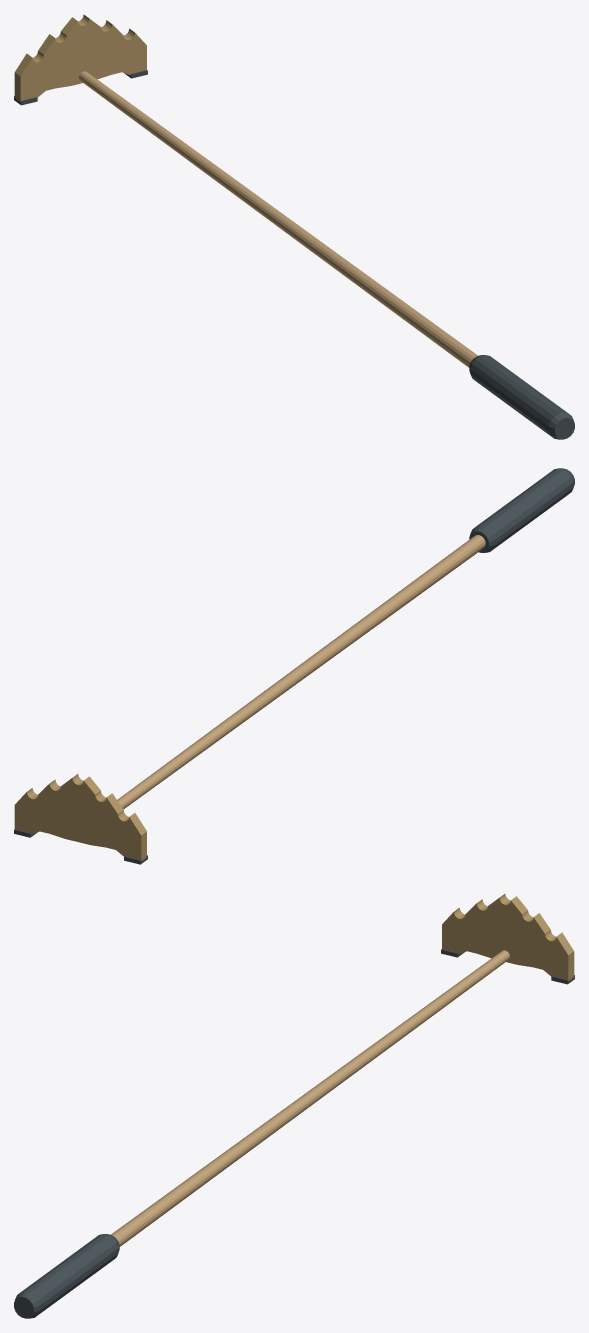
3 renders of one model, top to bottom at view 1: azimuth 30°, elevation 25°; view 2: azimuth 150°, elevation 25°; view 3: azimuth 330°, elevation 25°, orthographic.
Parts seen in each view (by area): view 1: WholeLongTaperedBridgeShaft, WholeFiveOpenNotchesAndGraduatedBridgeHead, WholeLongFacetedRearGrip; view 2: WholeFiveOpenNotchesAndGraduatedBridgeHead, WholeLongTaperedBridgeShaft, WholeLongFacetedRearGrip; view 3: WholeLongTaperedBridgeShaft, WholeFiveOpenNotchesAndGraduatedBridgeHead, WholeLongFacetedRearGrip.
Part boxes in pixels (x1,y1,x2,y2): WholeLongTaperedBridgeShaft: [79, 71, 477, 367]; WholeFiveOpenNotchesAndGraduatedBridgeHead: [14, 14, 146, 101]; WholeLongFacetedRearGrip: [469, 355, 574, 439]; WholeFiveOpenNotchesAndGraduatedBridgeHead: [14, 774, 146, 860]; WholeLongTaperedBridgeShaft: [117, 535, 485, 809]; WholeLongFacetedRearGrip: [469, 468, 574, 552]; WholeLongTaperedBridgeShaft: [111, 950, 509, 1246]; WholeFiveOpenNotchesAndGraduatedBridgeHead: [442, 893, 574, 980]; WholeLongFacetedRearGrip: [14, 1234, 119, 1318].
Size of the model in its own units: 0.2 by 0.105 by 1.34.
